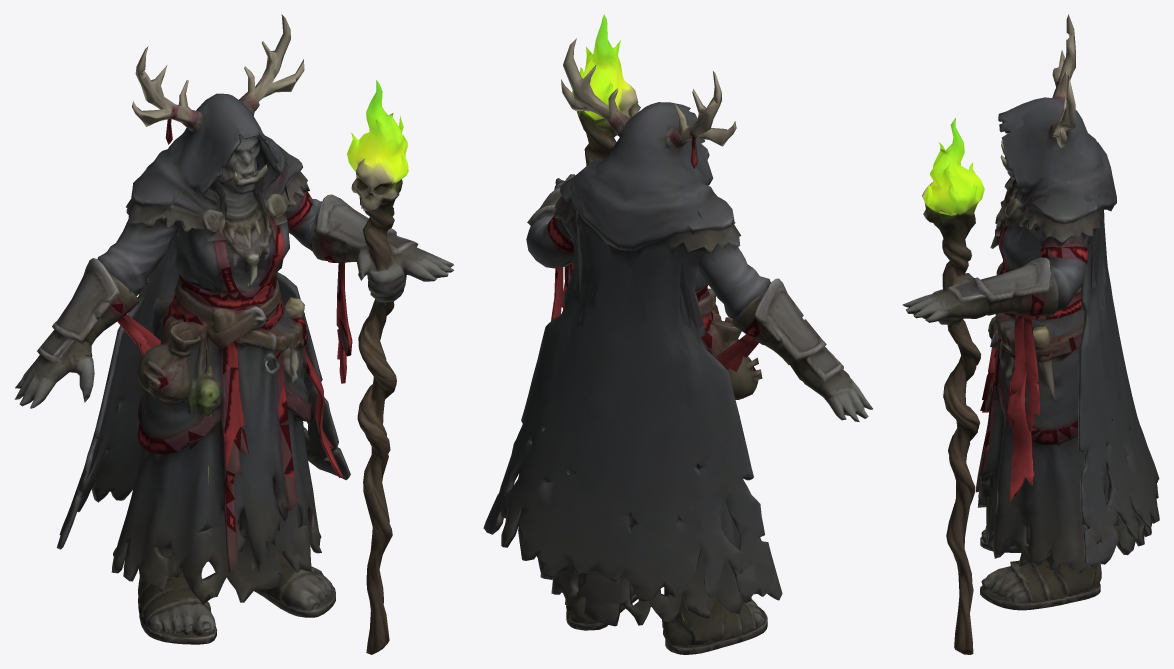
File: hero_vozgul.glb
3 renders of one model, left to right at view 1: azimuth 30°, elevation 25°; view 2: azimuth 150°, elevation 25°; view 3: azimuth 270°, elevation 25°, orthographic. The views are drawn at different scales.
Visible parts, largest first — view 1: Torso, ArmL, Head, ArmR, Weapon, LegL, Crystal, LegR; view 2: Torso, Head, ArmL, ArmR, LegL, Crystal, Weapon, LegR; view 3: Torso, ArmR, Head, Weapon, LegR, Crystal.
Part boxes in pixels (x1,y1,x2,y2): Torso: (56, 173, 350, 604); ArmL: (14, 171, 192, 408); Head: (132, 14, 304, 196); ArmR: (277, 144, 453, 383); Weapon: (351, 158, 402, 654); LegL: (138, 556, 217, 644); Crystal: (347, 80, 408, 183); LegR: (254, 550, 335, 617); Torso: (483, 196, 782, 626); Head: (561, 38, 736, 220); ArmL: (674, 194, 872, 421); ArmR: (526, 168, 584, 320); LegL: (662, 597, 767, 654); Crystal: (572, 14, 630, 120); Weapon: (576, 86, 640, 165); LegR: (566, 573, 638, 630); Torso: (975, 174, 1159, 572); ArmR: (902, 188, 1103, 431); Head: (998, 14, 1111, 203); Weapon: (922, 181, 981, 654); LegR: (980, 554, 1101, 610); Crystal: (922, 118, 984, 215).
Bounding box in the file's own units: 1.47 × 2.31 × 0.9556.
3 materials, 3 textured.
